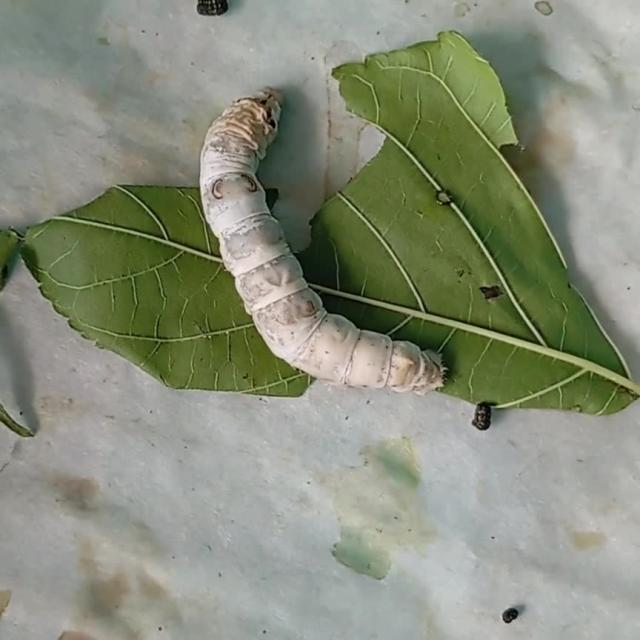Grasserie: (175, 60, 462, 412)
